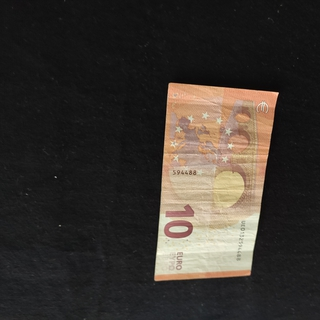10EUROBack: (153, 82, 279, 282)
